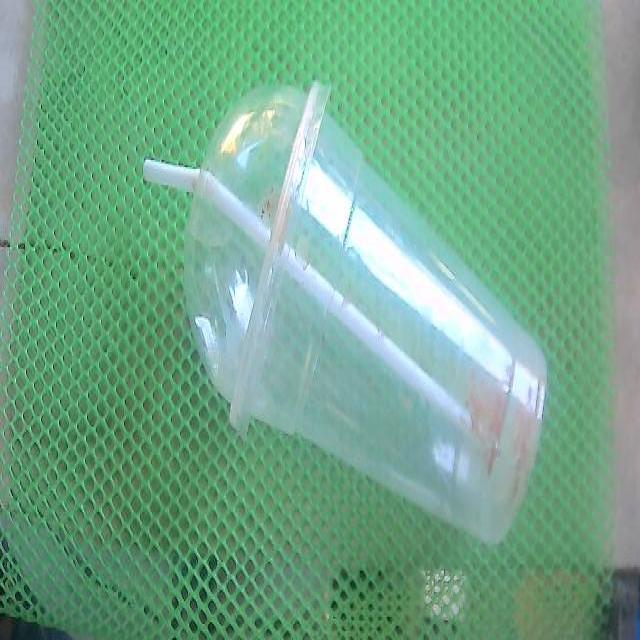bottle: (231, 84, 546, 541)
